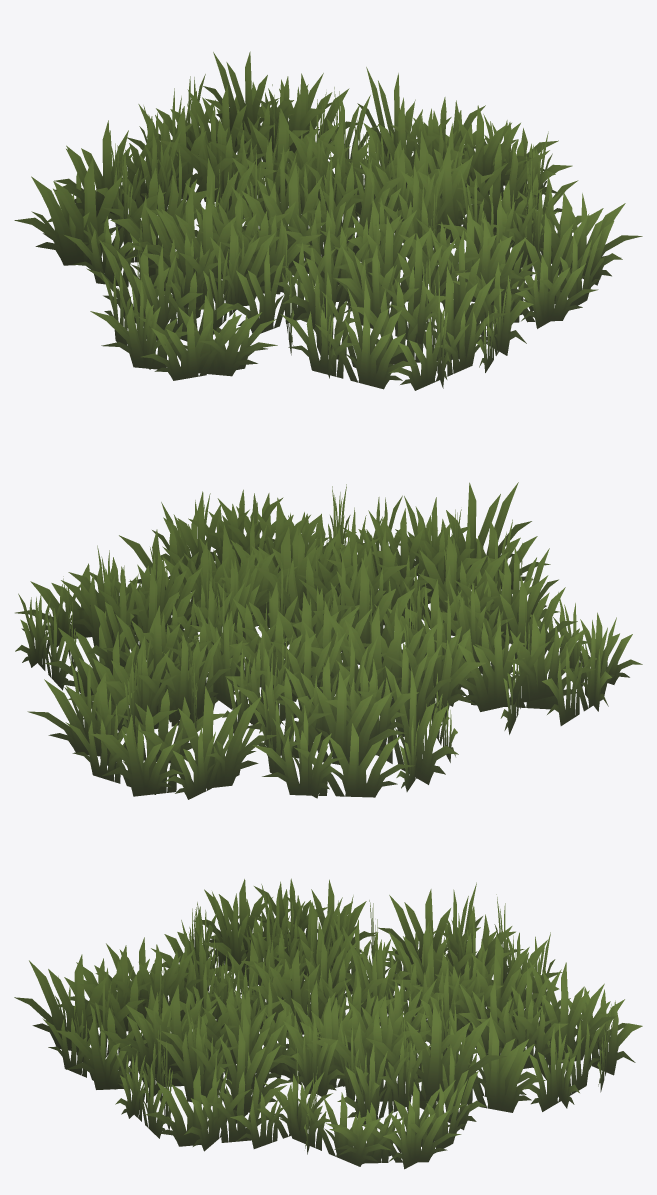
Rendered from SM_Env_Grass_Alpine_02.fbx.
3 views of the same model, one above another, from view 1: azimuth 30°, elevation 25°; view 2: azimuth 150°, elevation 25°; view 3: azimuth 270°, elevation 25° (orthographic). The views are drawn at different scales.
Visible parts, largest first — view 1: SM_Env_Grass_Alpine_02_LOD0; view 2: SM_Env_Grass_Alpine_02_LOD0; view 3: SM_Env_Grass_Alpine_02_LOD0.
Part boxes in pixels (x1,y1,x2,y2): SM_Env_Grass_Alpine_02_LOD0: [14, 51, 642, 390]; SM_Env_Grass_Alpine_02_LOD0: [15, 482, 642, 799]; SM_Env_Grass_Alpine_02_LOD0: [14, 878, 642, 1169].
Size of what is drawn, in the model's own units: 413 by 115 by 462.
